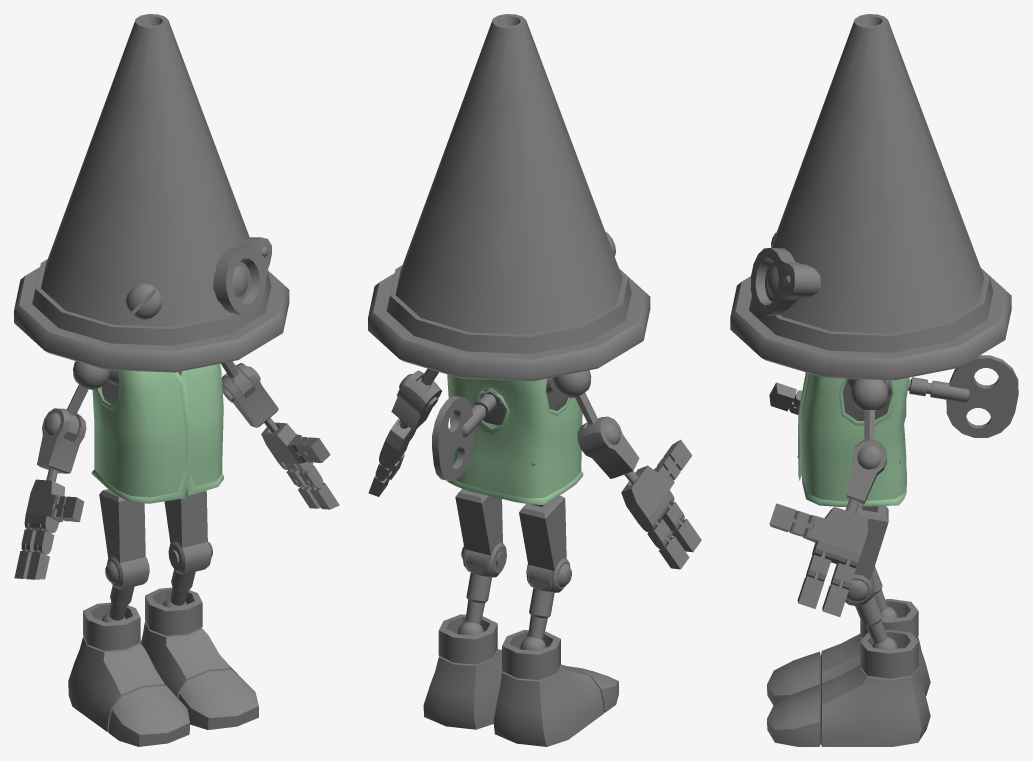
File: npc_conhead.fbx
3 renders of one model, left to right at view 1: azimuth 30°, elevation 25°; view 2: azimuth 150°, elevation 25°; view 3: azimuth 270°, elevation 25°, orthographic. The views are drawn at different scales.
Visible parts, largest first — view 1: head_05, body, clothes; view 2: head_05, body, clothes, ch05_winder; view 3: head_05, body, clothes, ch05_winder.
Boxes of the visible parts, x1=… form: head_05: x1=14, y1=14, x2=289, y2=372; body: x1=14, y1=361, x2=339, y2=746; clothes: x1=91, y1=364, x2=223, y2=503; head_05: x1=368, y1=14, x2=650, y2=381; body: x1=368, y1=368, x2=701, y2=746; clothes: x1=447, y1=374, x2=583, y2=504; ch05_winder: x1=432, y1=388, x2=502, y2=481; head_05: x1=730, y1=14, x2=1011, y2=380; body: x1=767, y1=378, x2=930, y2=746; clothes: x1=798, y1=372, x2=909, y2=506; ch05_winder: x1=908, y1=355, x2=1018, y2=437.
Bounding box in the file's own units: 528 × 1122 × 423.
